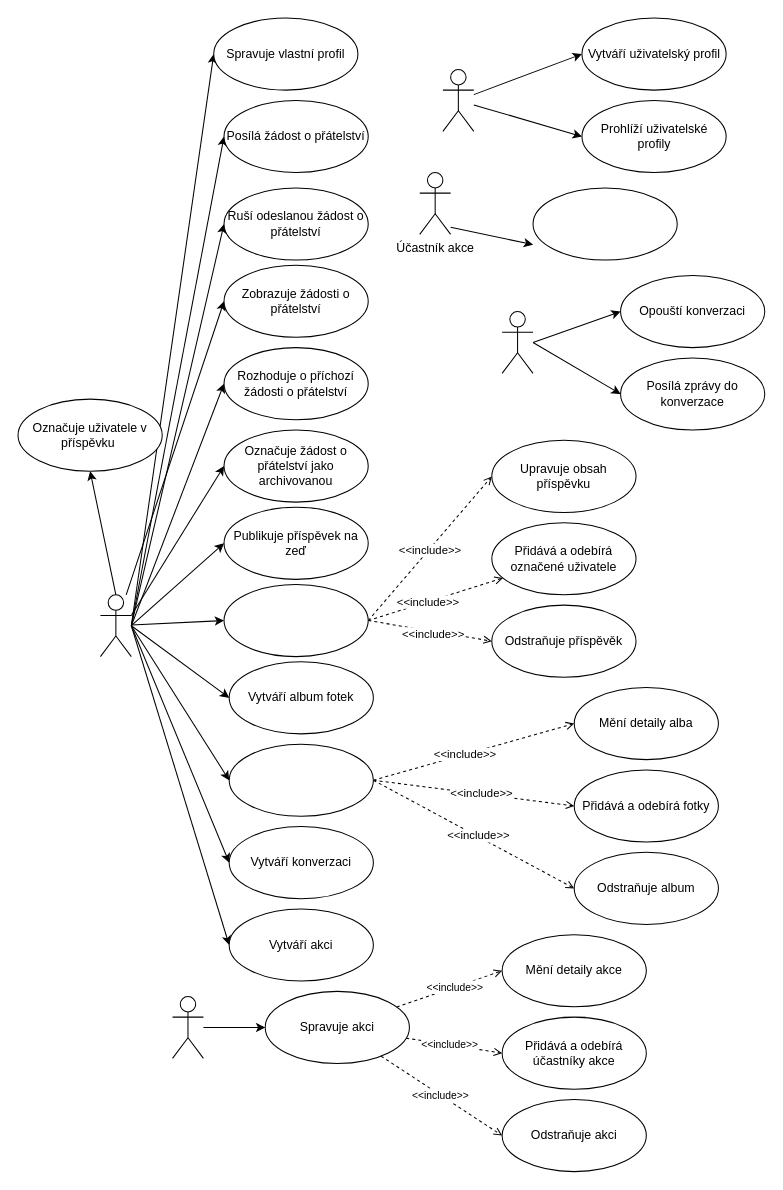
This 783x1190 diagram has some shape labels left out. Here are the shapes that lost their labels. From the top down, the centre of each, then its label:
At [458,99]: "Neregistrovaý uživatel".
At [604,223]: "Rozhoduje o své účasti na akci".
At [517,342]: "Účastník konverzace".
At [115,625]: "Registrovaný uživatel".
At [295,620]: "Upravuje příspěvek".
At [300,779]: "Spravuje své album fotek".
At [187,1026]: "Zakladatel akce".
